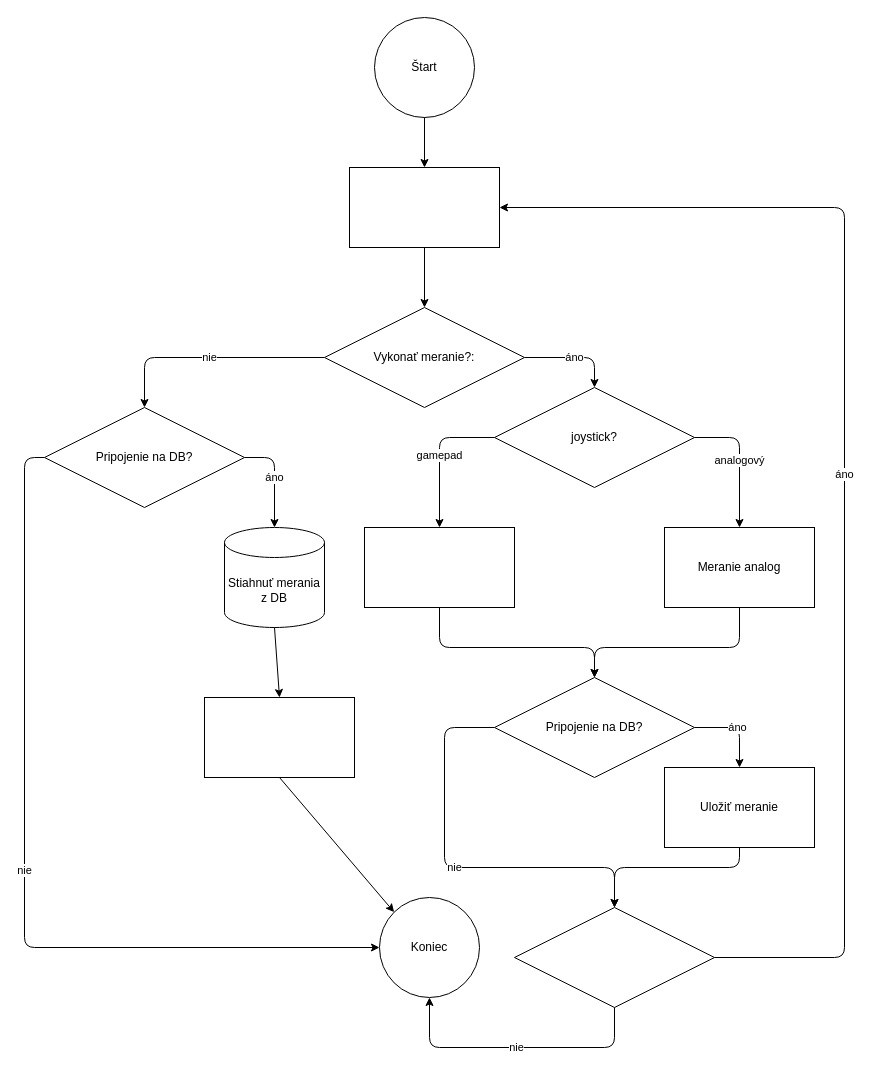
Image size: 871x1073. Some labels were removed from this diagram. Here are the shapes that lost their labels. From the top down, the centre of each, then its label:
the point at 424,207: Hlavná stránka
the point at 439,567: Meranie gamepad
the point at 279,737: Prehrať meranie
the point at 614,957: Zopakovať meranie?
